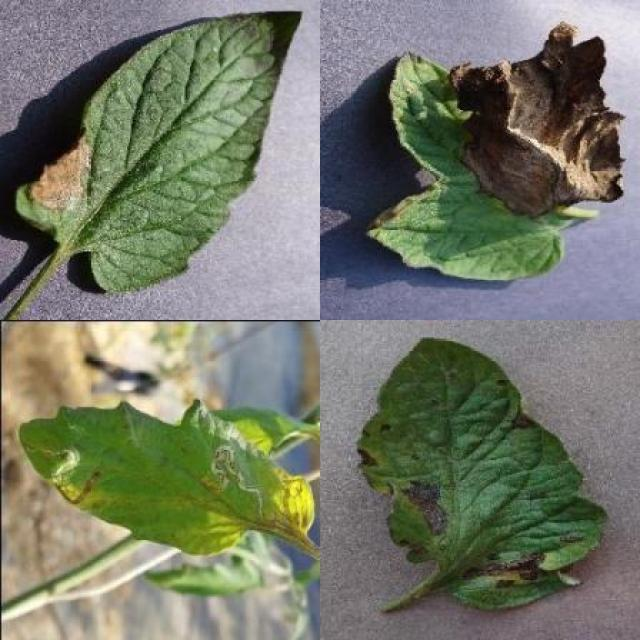Early Blight: (358, 336, 608, 614)
Late Blight: (16, 10, 305, 294), (359, 20, 627, 283)
Leaf Miner: (15, 396, 318, 561)
